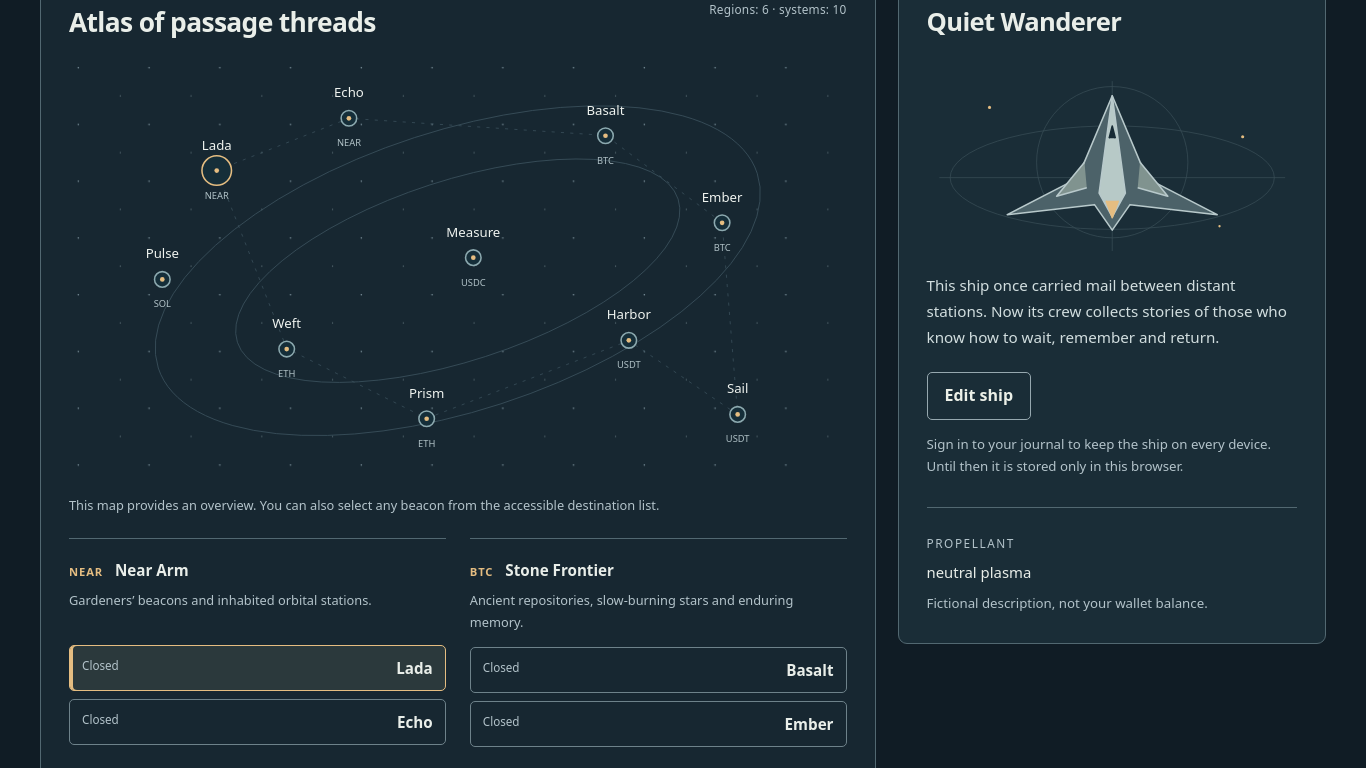
Test: English accessible game UI › renders imported biography as inert text and preserves ship settings after remount
This screenshot has width=1366, height=768.
Later steps or results of the test are not shown.
(page scrolled)
Click the button "Edit ship".
click(979, 396)  # box x1=926 y1=372 x2=1031 y2=420
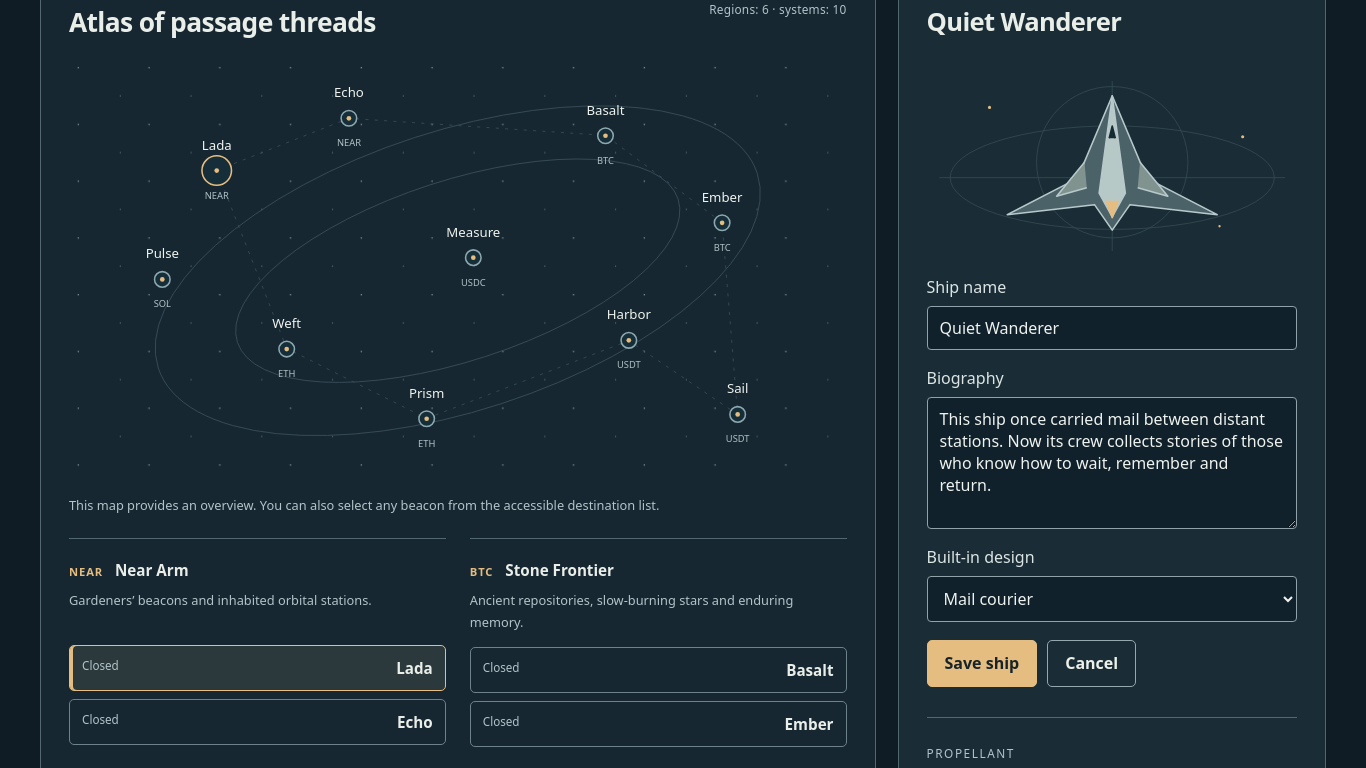
Replace the text in the field labelled "Ship name" with "Медленный свет" at [1112, 328], box x1=926 y1=306 x2=1297 y2=350
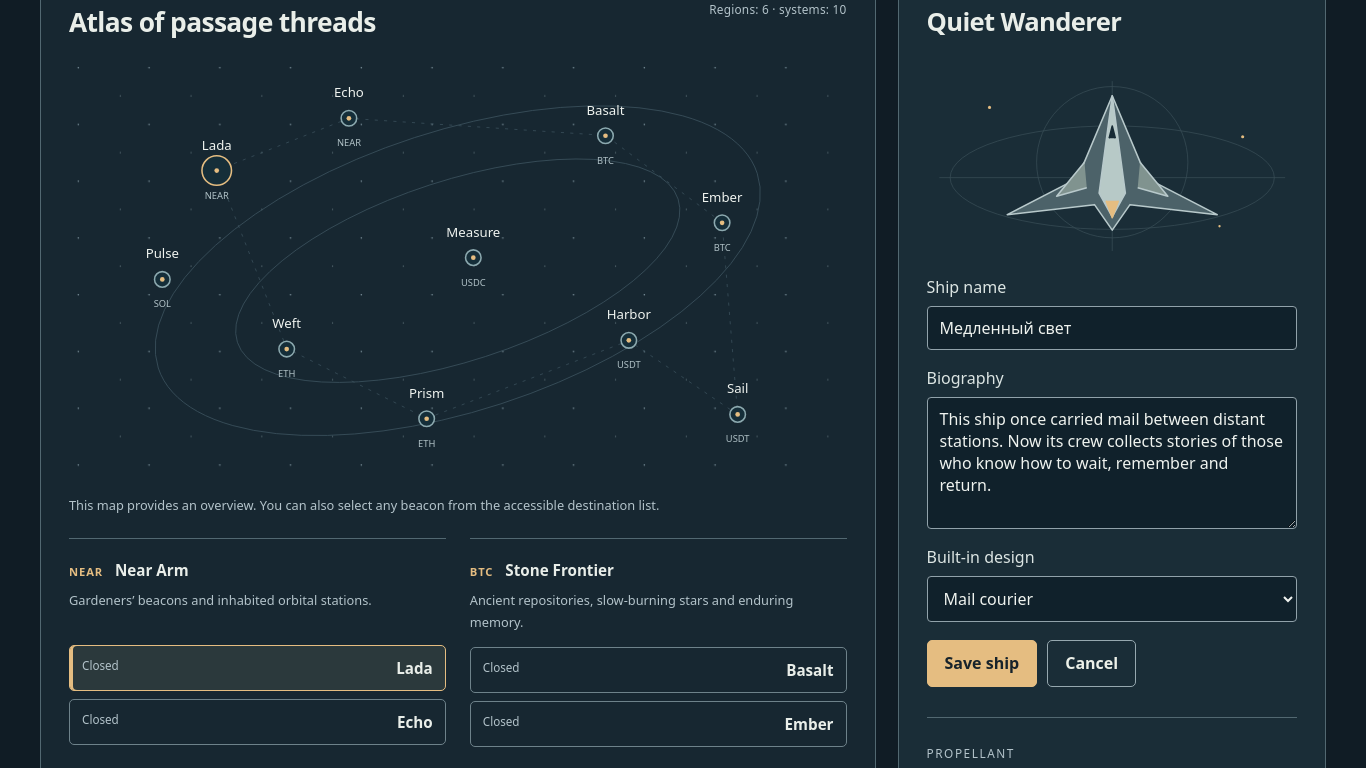
Replace the text in the text box labelled "Biography" with "<img src=x onerror=alert(1)> Текст, не HTML." at [1112, 463], box x1=926 y1=397 x2=1297 y2=529
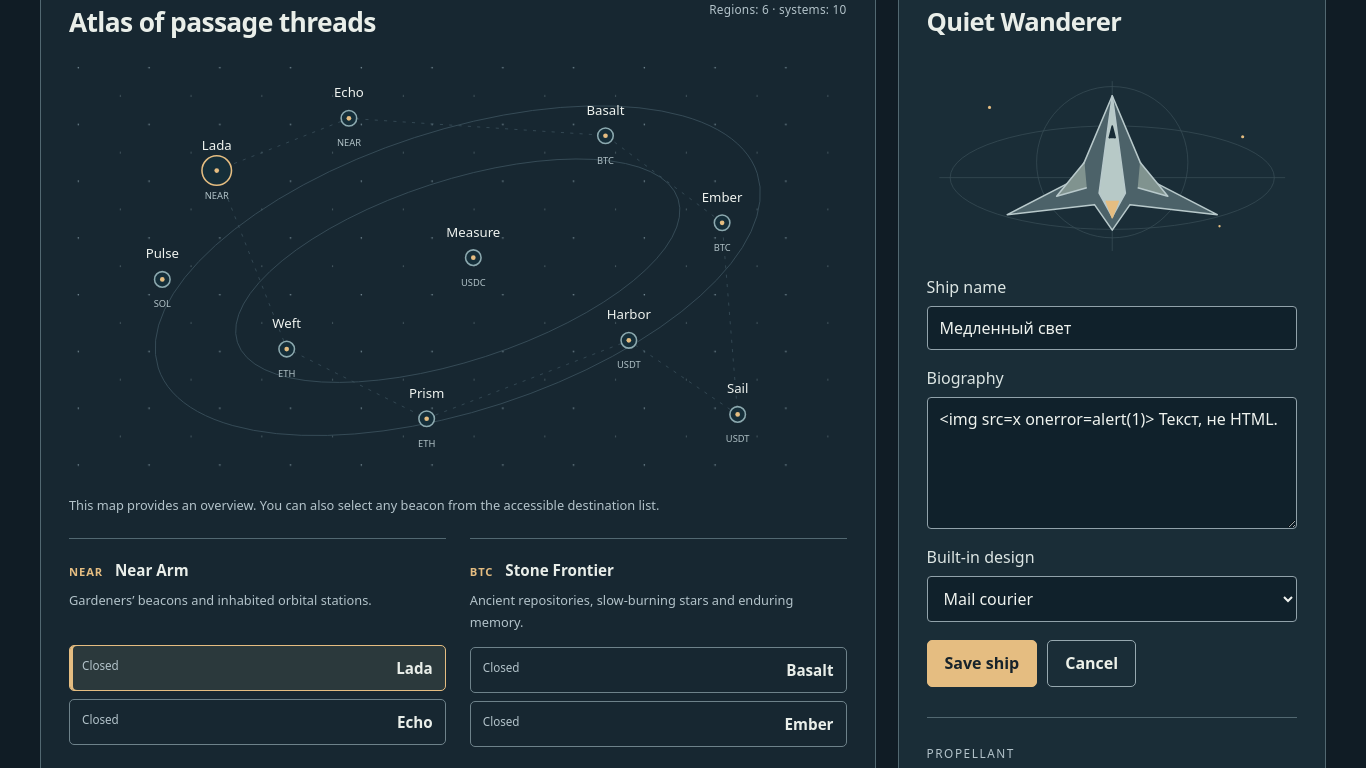
Select "Solar sail" in the dropdown labelled "Built-in design" at [1112, 599], box x1=926 y1=576 x2=1297 y2=622
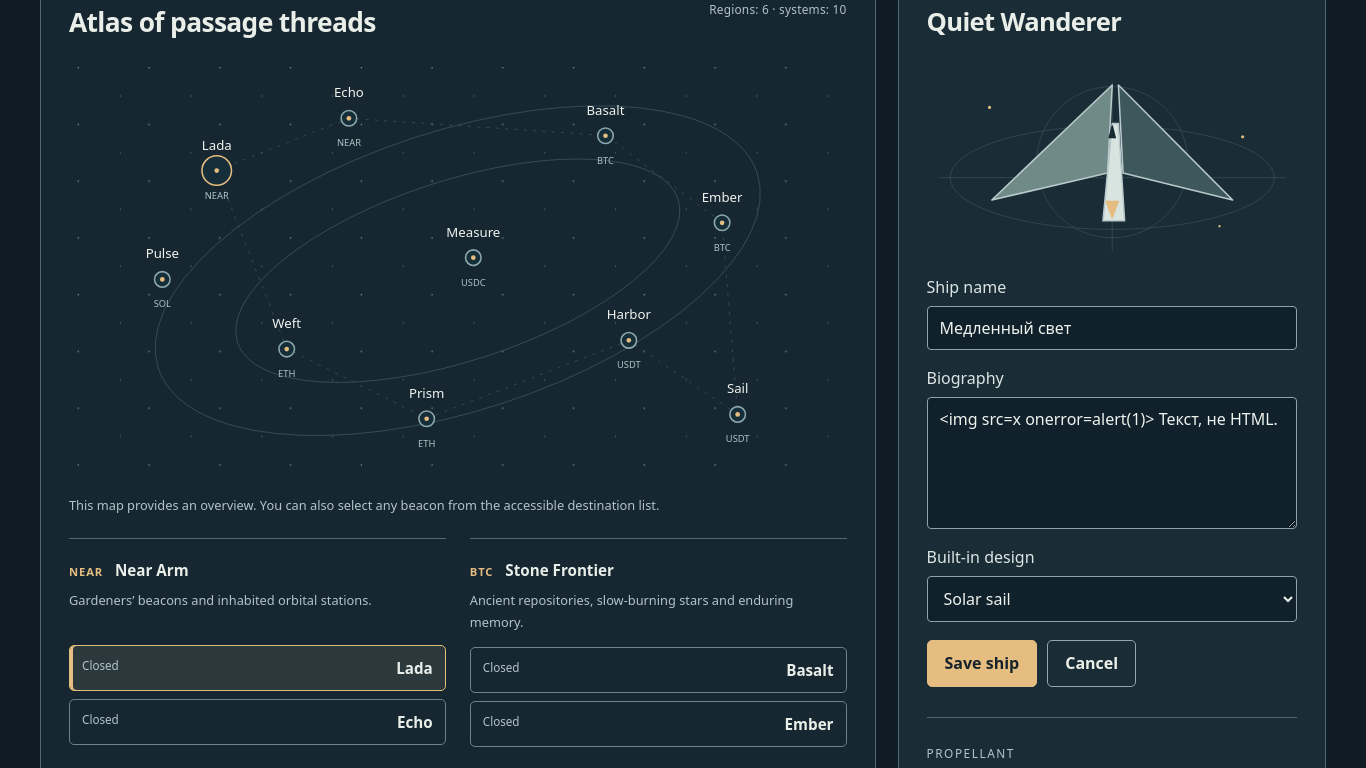
Click the button "Save ship".
click(982, 664)  # box x1=926 y1=640 x2=1037 y2=687
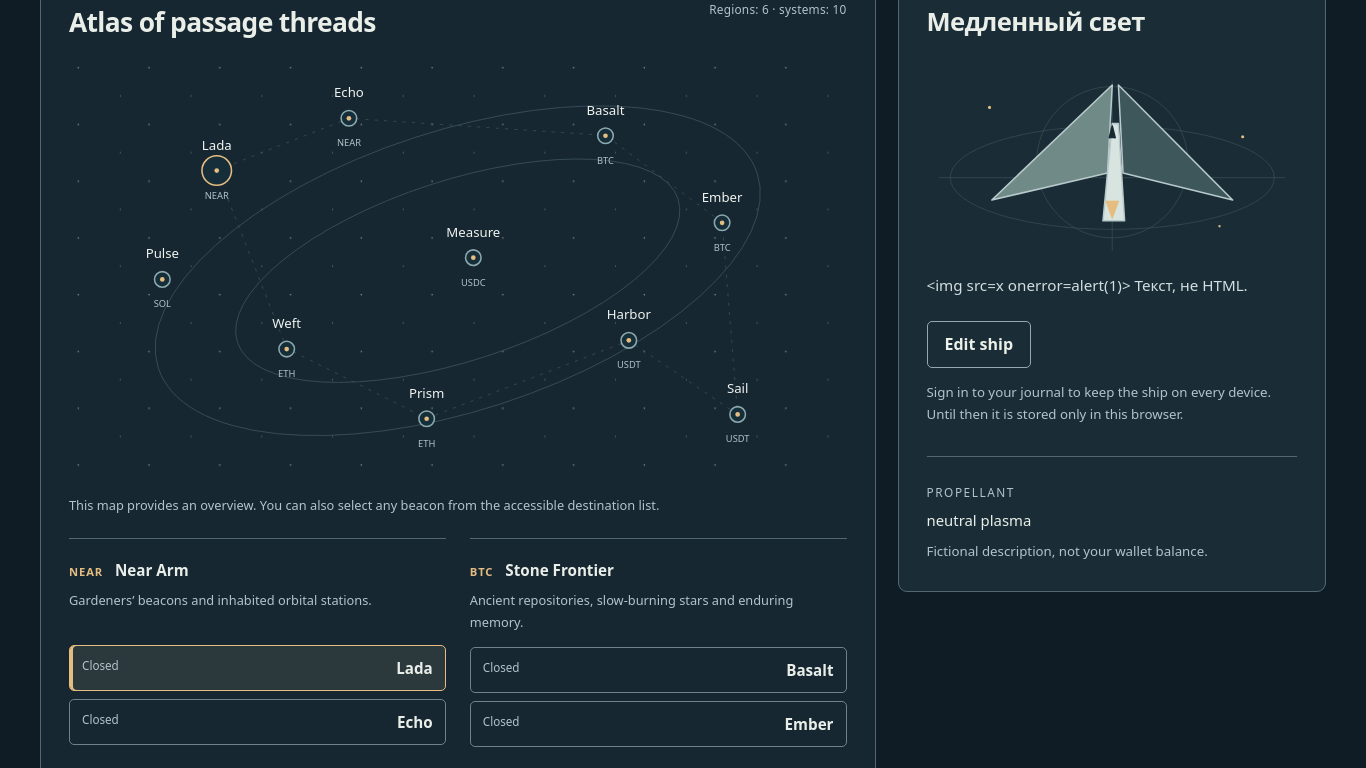
Result: the heading "Медленный свет" is shown at x1=926 y1=4 x2=1145 y2=39
